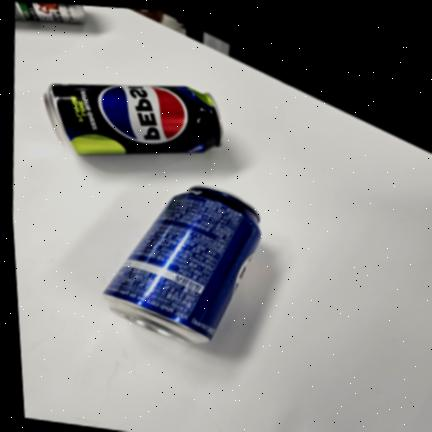can_pepsi: (103, 189, 260, 343)
can_pepsi_zero: (44, 84, 222, 155)
